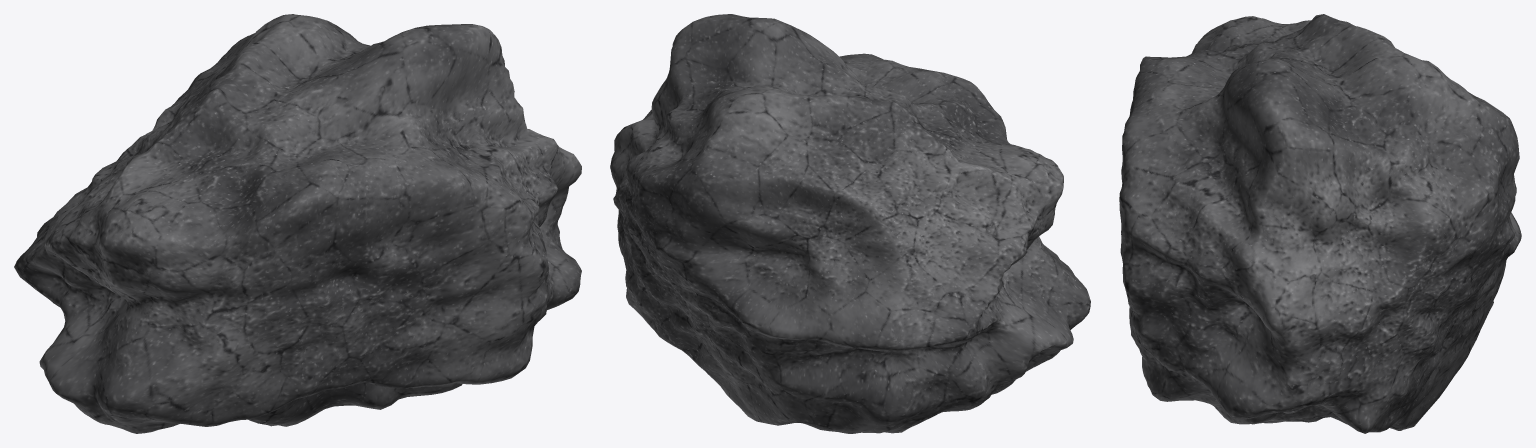
Rendered from asteroid-02.glb.
3 views of the same model, side by side, from view 1: azimuth 30°, elevation 25°; view 2: azimuth 150°, elevation 25°; view 3: azimuth 270°, elevation 25° (orthographic). The views are drawn at different scales.
Parts seen in each view (by area): view 1: asteroid-02; view 2: asteroid-02; view 3: asteroid-02.
Boxes of the visible parts, x1=… form: asteroid-02: x1=14, y1=14, x2=581, y2=433; asteroid-02: x1=610, y1=14, x2=1090, y2=433; asteroid-02: x1=1119, y1=14, x2=1521, y2=433.
Bounding box in the file's own units: 2.73 × 1.96 × 1.82.
1 material, 1 textured.
